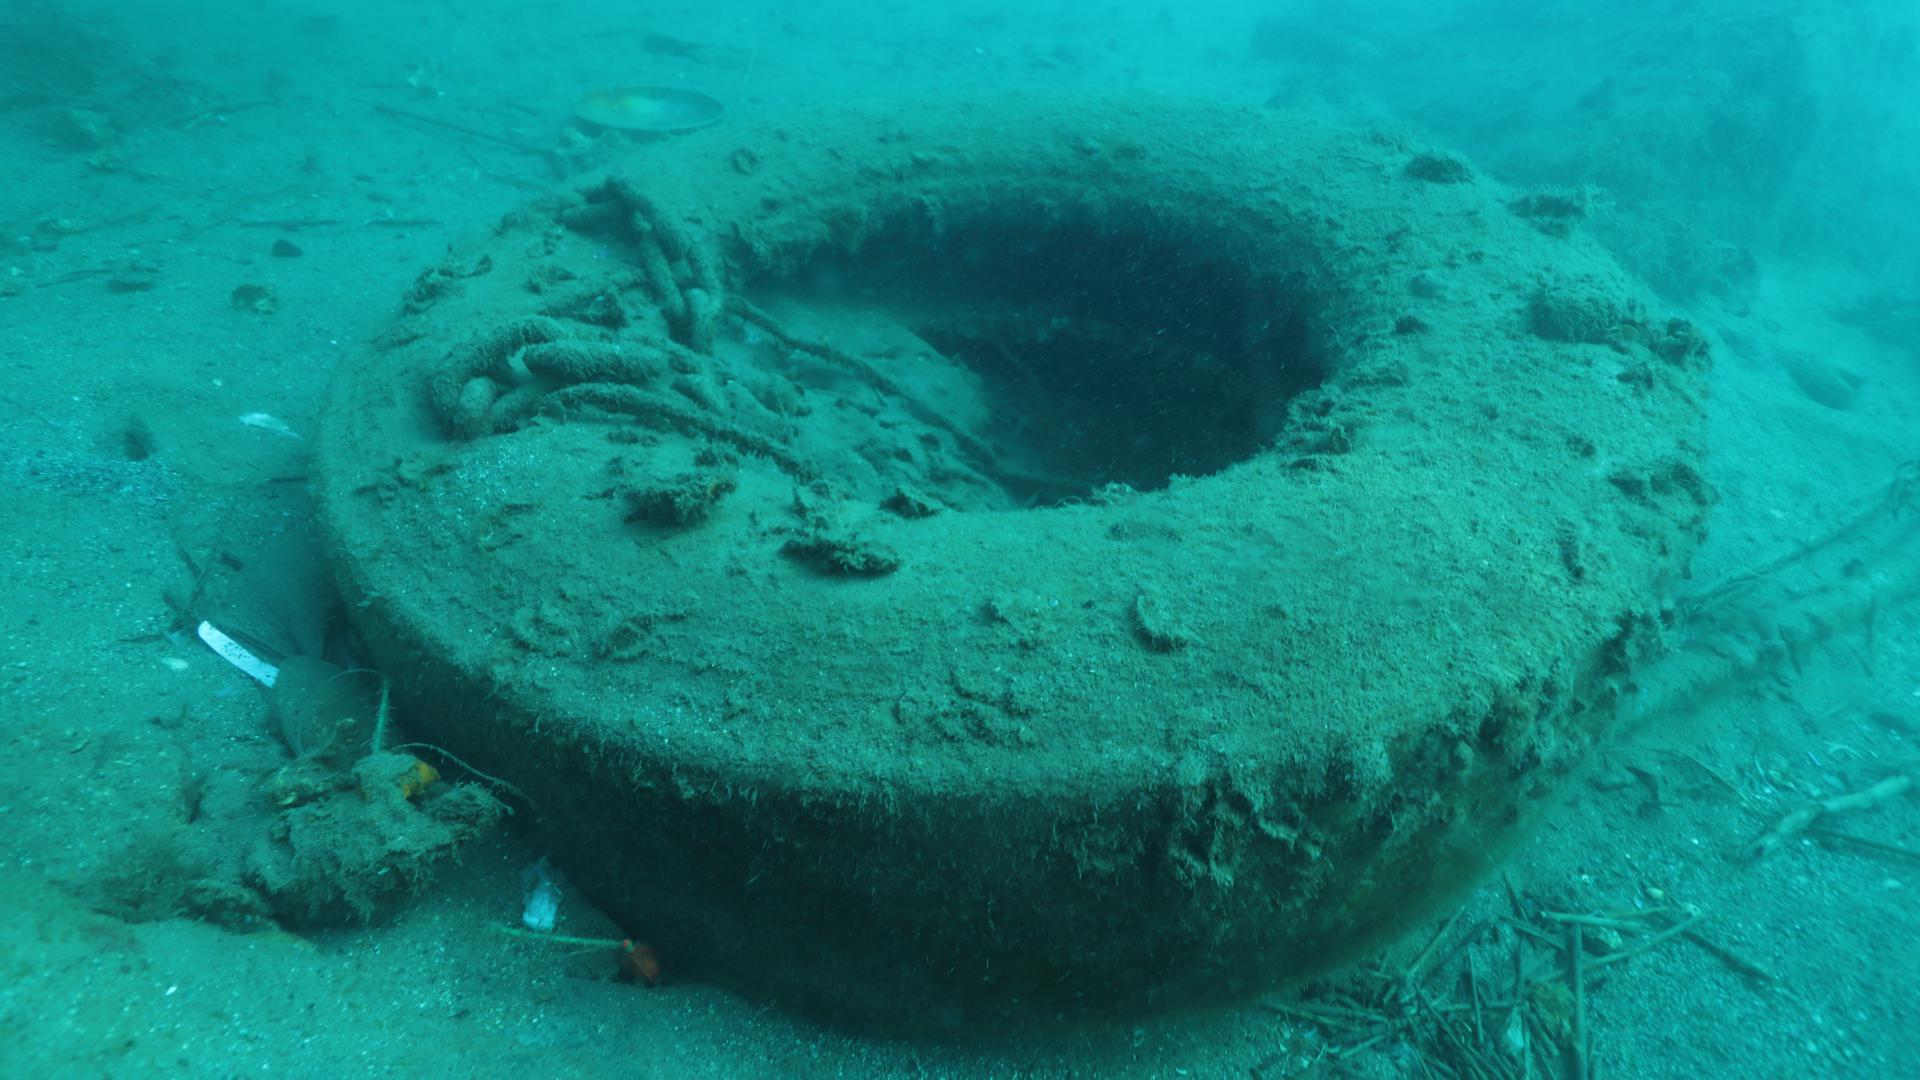tire: (309, 84, 1701, 1018)
